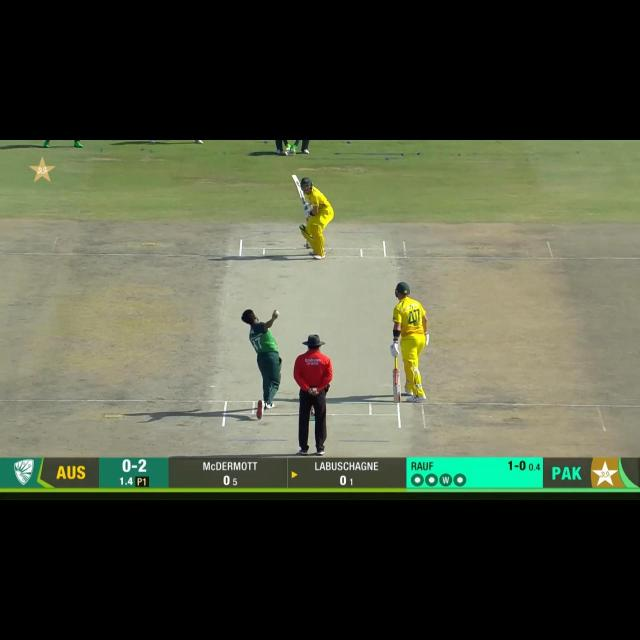bat: (290, 173, 306, 202), (392, 370, 404, 402)
toe: (390, 394, 403, 402), (290, 173, 299, 182)
